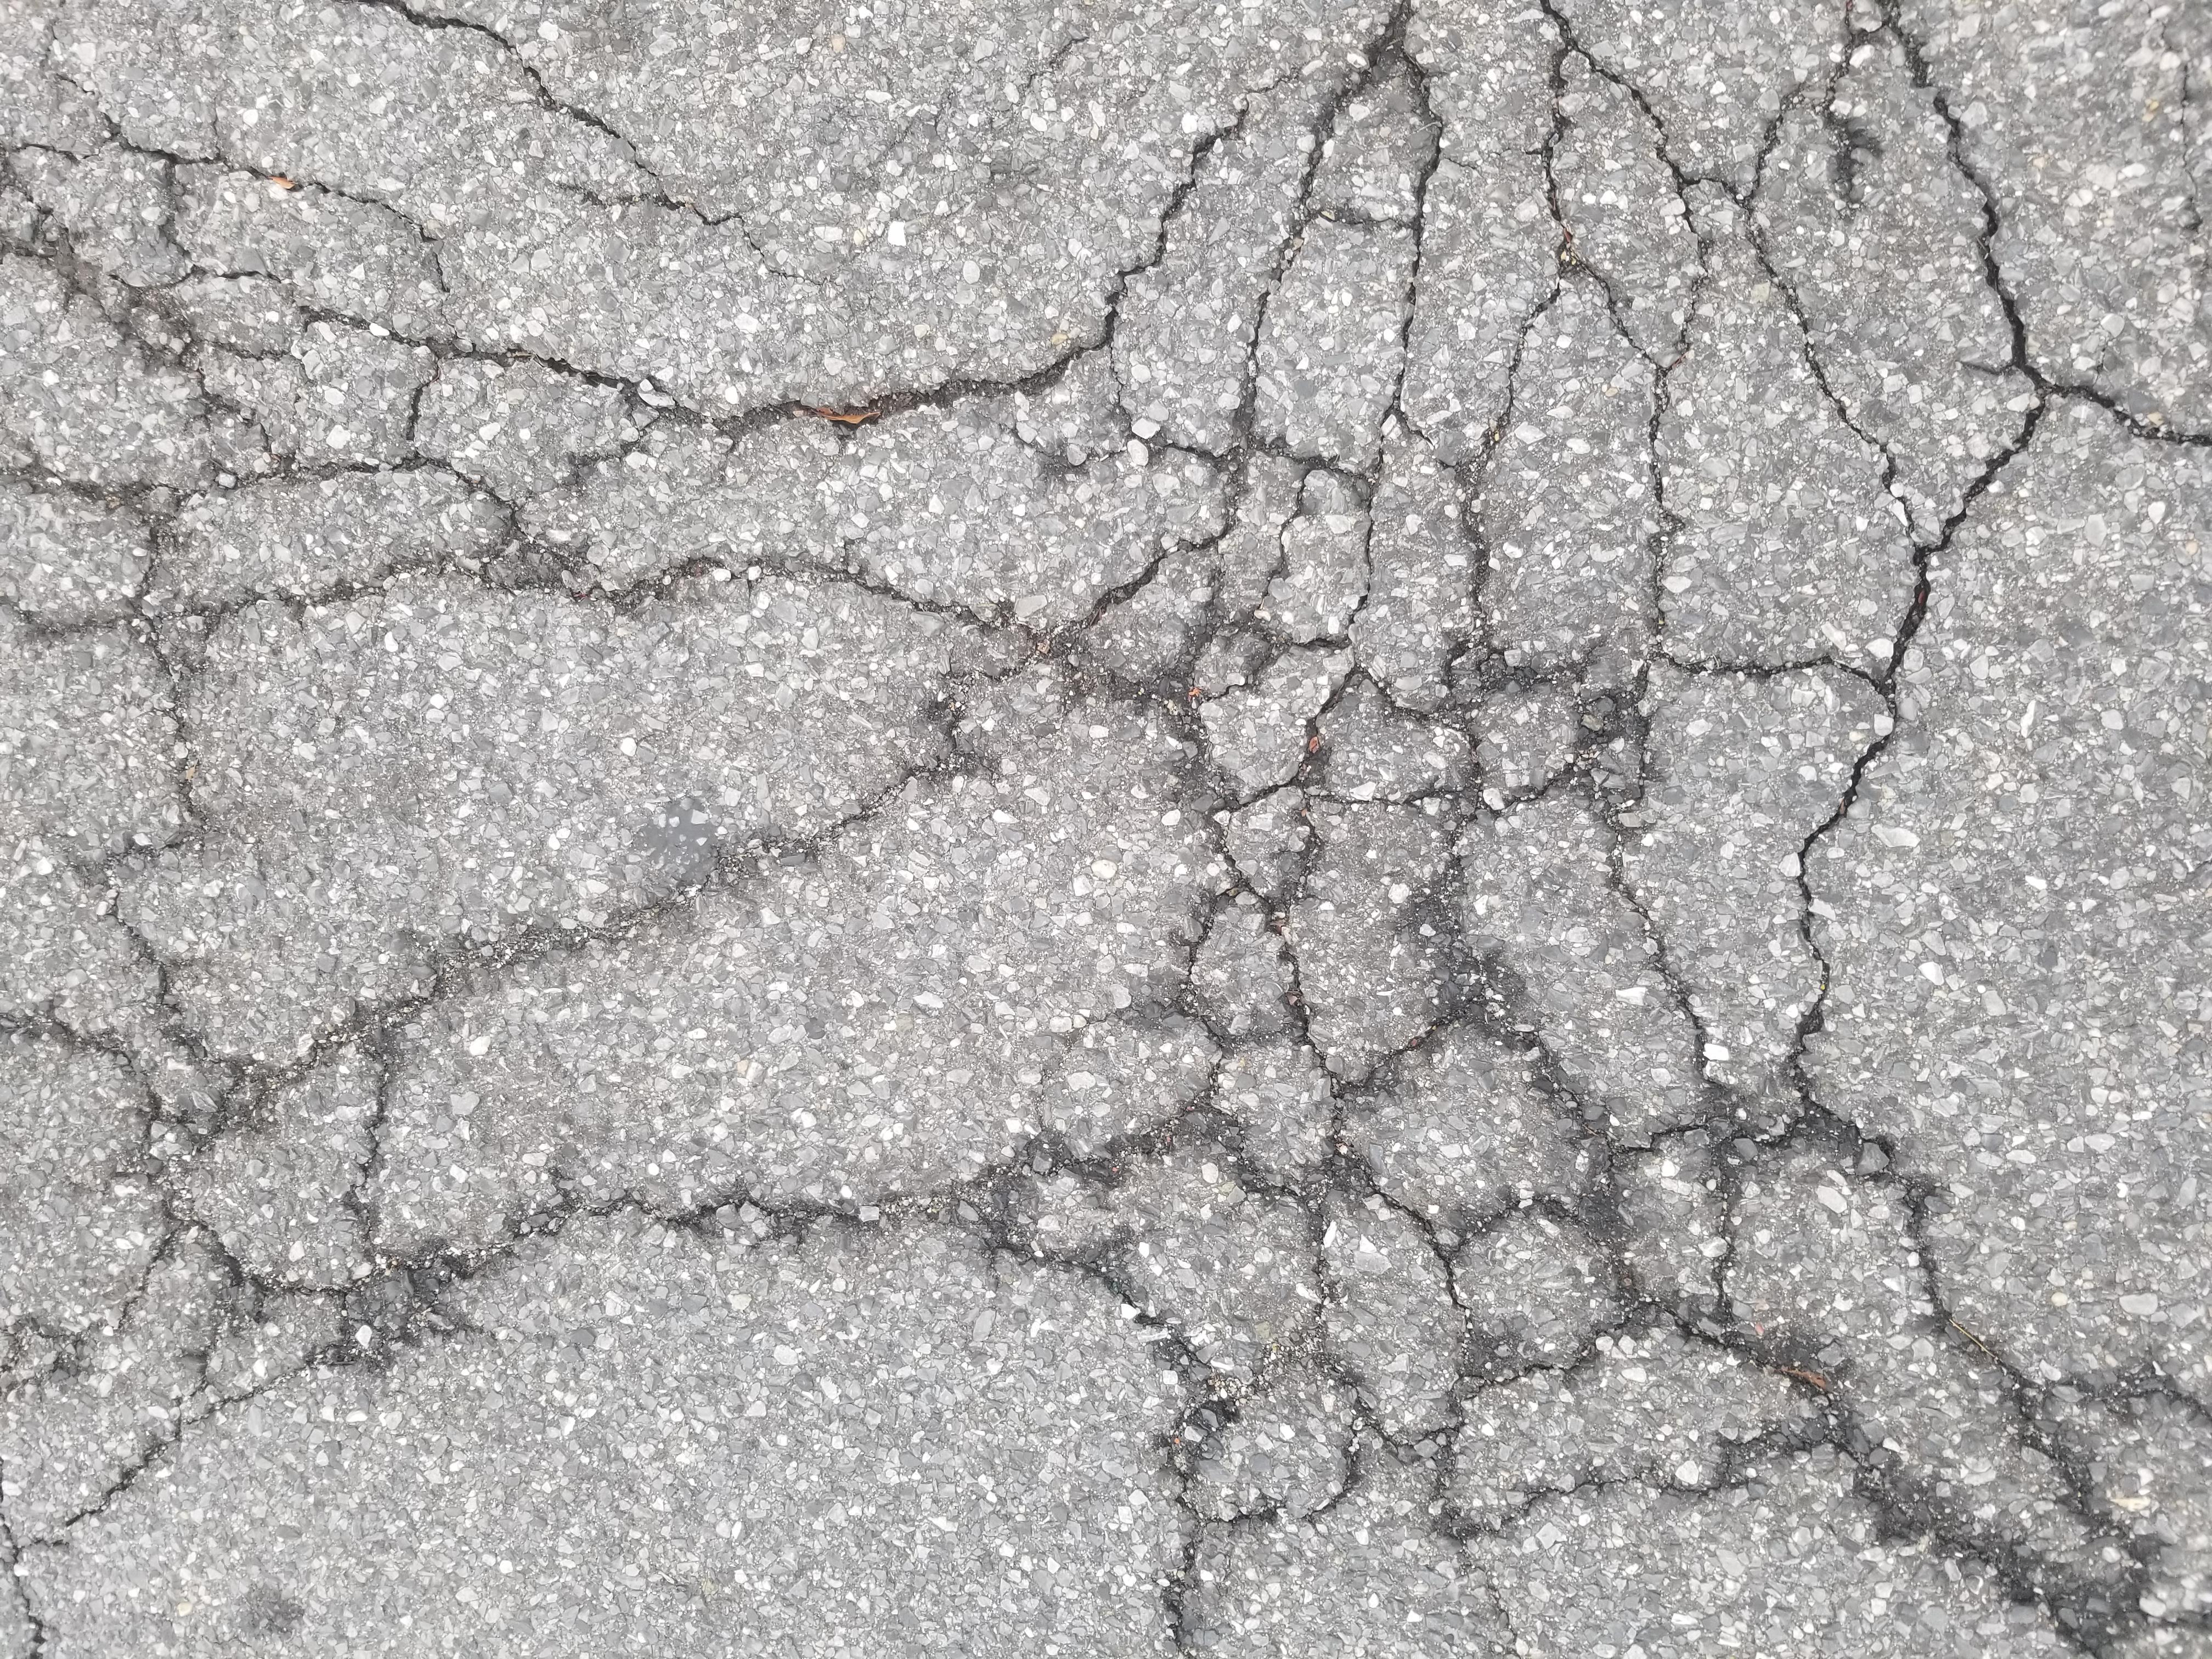alligator-crack: (155, 725, 2092, 1567), (242, 38, 2047, 359)
crack: (873, 404, 1261, 695), (345, 416, 740, 692), (1632, 416, 1824, 748), (1362, 425, 1561, 744), (1904, 392, 2193, 563)
